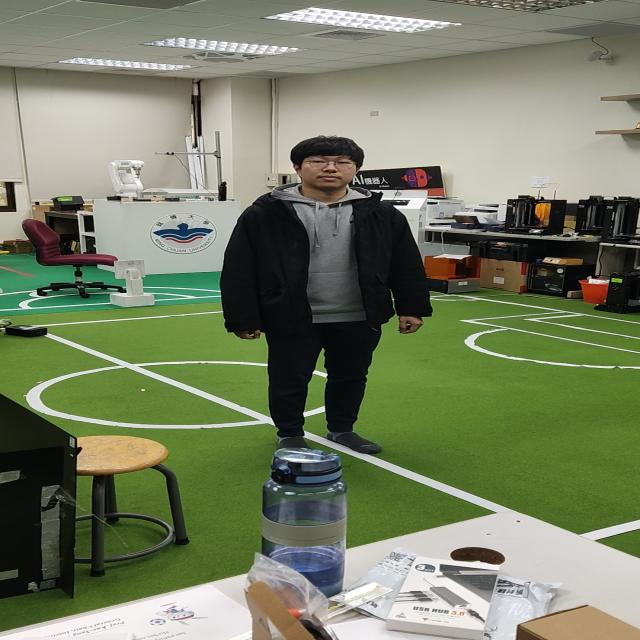person: (210, 125, 444, 436)
